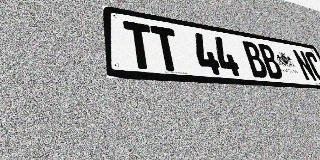4: (190, 32, 222, 75), (211, 35, 241, 76)
B: (240, 40, 270, 78), (256, 43, 285, 79)
C: (303, 51, 320, 83)
N: (291, 49, 318, 82)
T: (123, 21, 157, 70), (150, 25, 183, 72)
